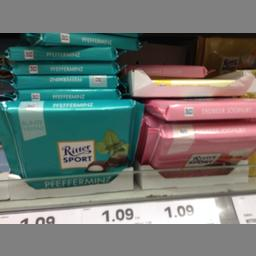chocolate: (0, 98, 143, 188), (144, 116, 255, 178)
